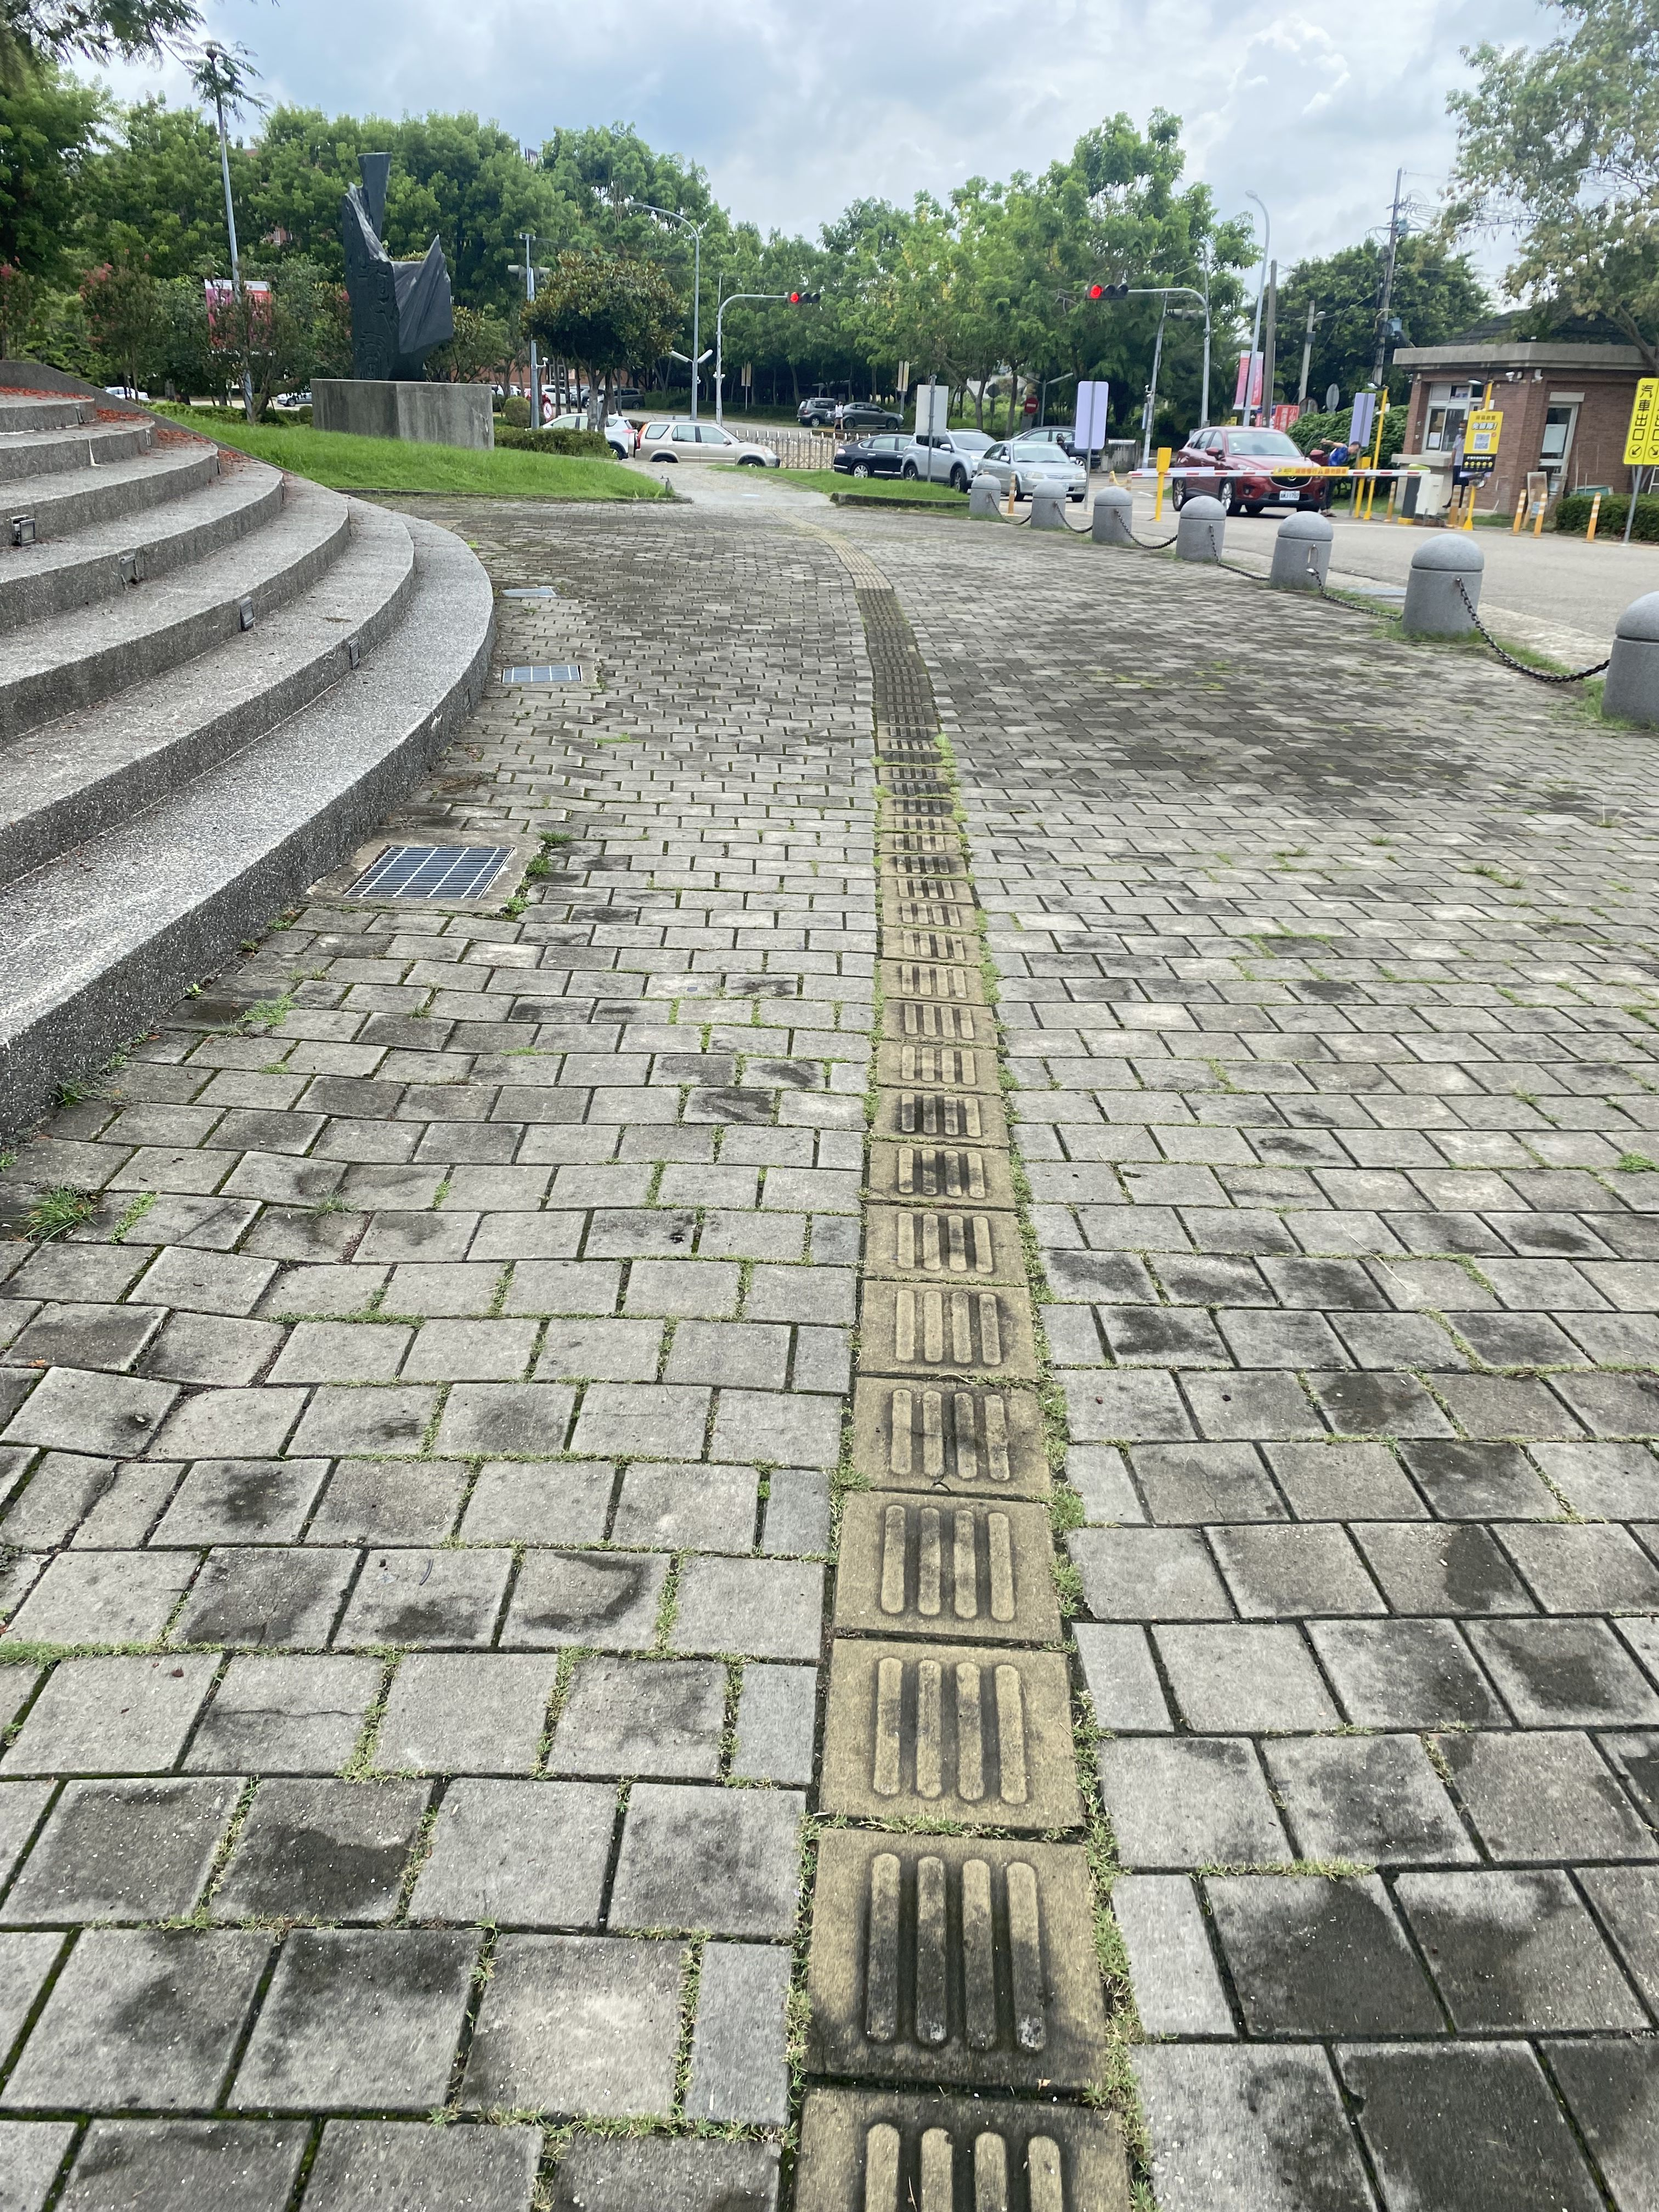sidewalk: (5, 505, 1659, 2212)
